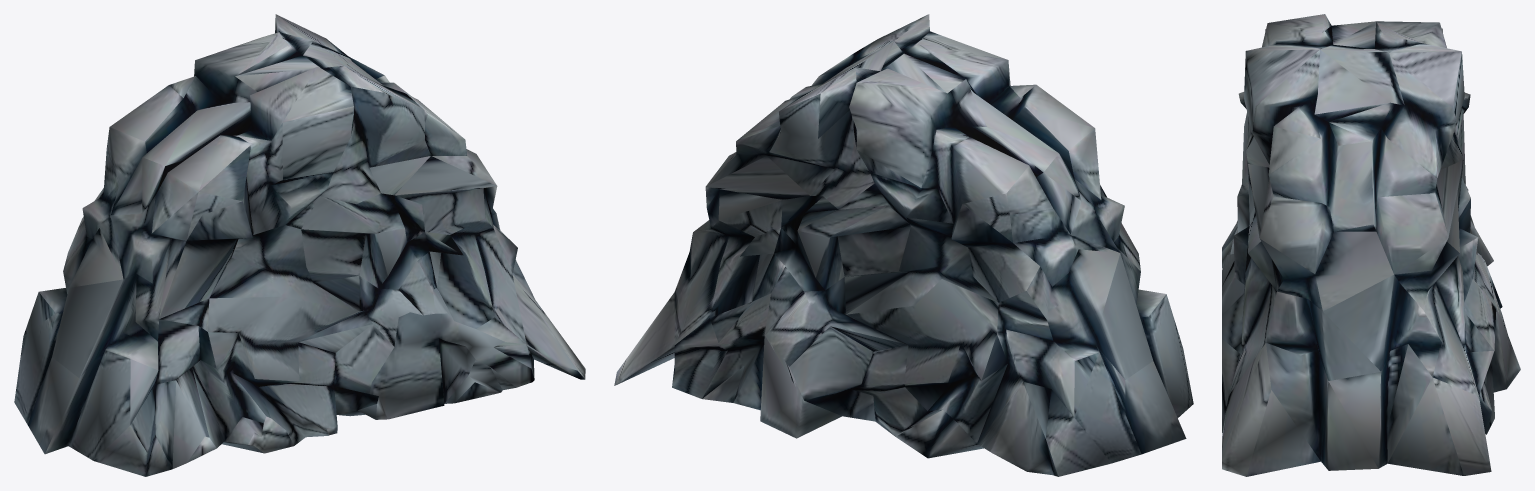
The model's file is outcrop.glb.
3 renders of one model, left to right at view 1: azimuth 30°, elevation 25°; view 2: azimuth 150°, elevation 25°; view 3: azimuth 270°, elevation 25°, orthographic.
Visible parts, largest first — view 1: OUTCROP; view 2: OUTCROP; view 3: OUTCROP.
Part boxes in pixels (x1=…): OUTCROP: x1=14, y1=14, x2=585, y2=476; OUTCROP: x1=614, y1=14, x2=1193, y2=476; OUTCROP: x1=1222, y1=14, x2=1520, y2=476.
Bounding box in the file's own units: 2.45 × 1.55 × 1.26.
1 material, 1 textured.
